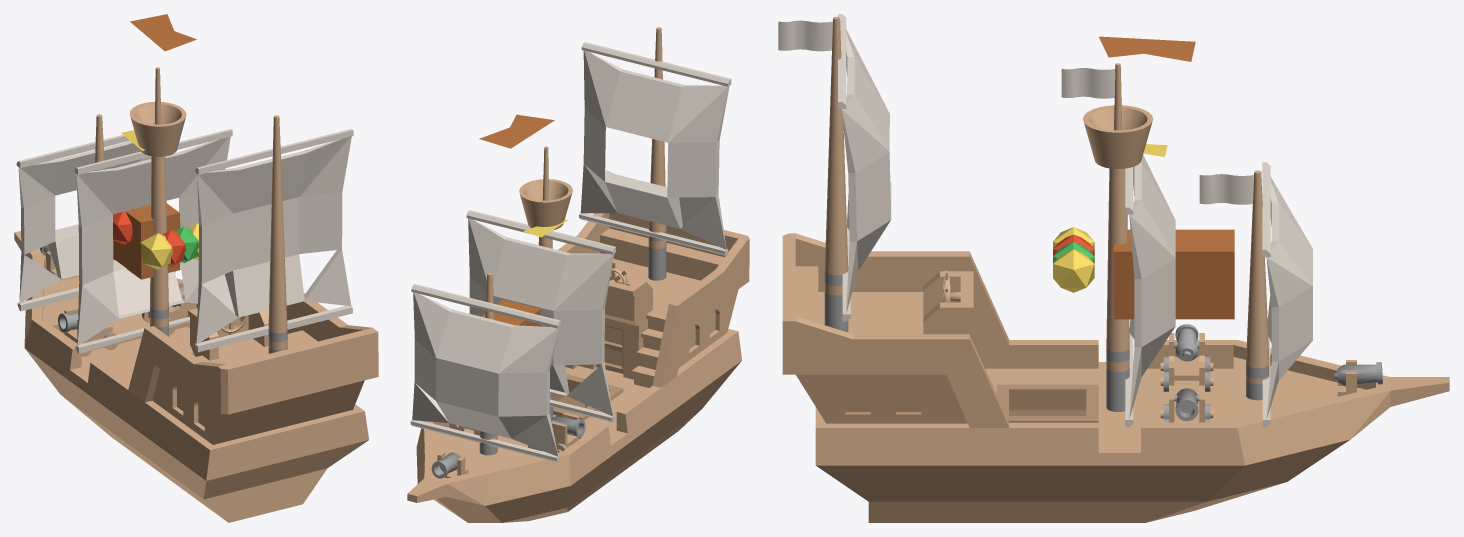
The model's file is ile_03_galion_gourmand_anime.glb.
3 renders of one model, left to right at view 1: azimuth 30°, elevation 25°; view 2: azimuth 150°, elevation 25°; view 3: azimuth 270°, elevation 25°, orthographic. The views are drawn at different scales.
Visible parts, largest first — view 1: navire_pirate_clair_assimp, Grande_Caisse, Grand_Pavillon, Cargaison_Fruit_0, Cargaison_Fruit_4, Cargaison_Fruit_1, Cargaison_Fruit_2; view 2: navire_pirate_clair_assimp, Grand_Pavillon, Grande_Caisse; view 3: navire_pirate_clair_assimp, Grande_Caisse, Grand_Pavillon, Cargaison_Fruit_3.
Part boxes in pixels (x1,y1,x2,y2): navire_pirate_clair_assimp: (14,67,378,522); Grande_Caisse: (113,203,180,279); Grand_Pavillon: (130,14,196,51); Cargaison_Fruit_0: (140,233,172,269); Cargaison_Fruit_4: (113,211,132,244); Cargaison_Fruit_1: (162,230,185,266); Cargaison_Fruit_2: (175,226,198,263); navire_pirate_clair_assimp: (407,27,749,522); Grand_Pavillon: (479,114,554,148); Grande_Caisse: (481,300,540,326); navire_pirate_clair_assimp: (778,14,1449,522); Grande_Caisse: (1114,229,1234,319); Grand_Pavillon: (1099,36,1195,61); Cargaison_Fruit_3: (1053,249,1094,292).
Bounding box in the file's own units: 27.93 × 66.81 × 84.22.
